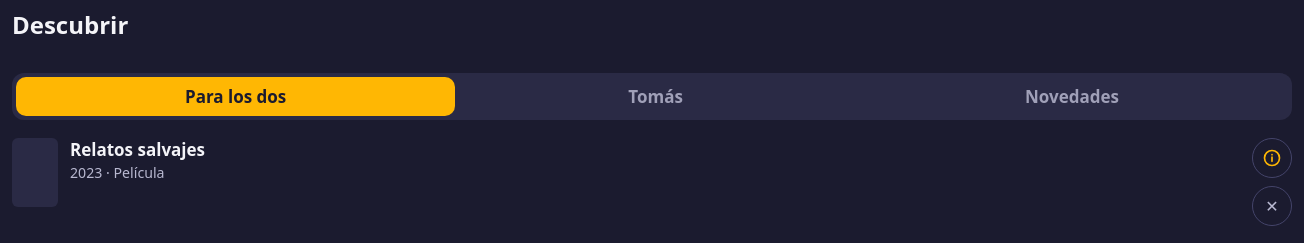
Test: a member whose results are empty shows the empty text in their section
Click the button "Tomás" at (656, 96), box x1=459 y1=77 x2=852 y2=116
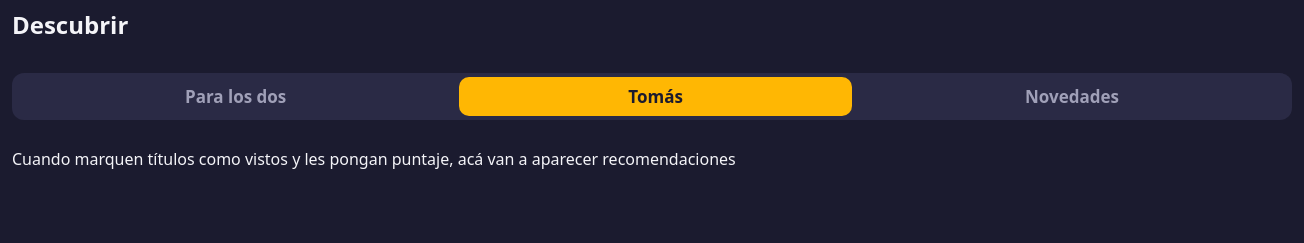
Check: the text "Cuando marquen títulos" is shown, box x1=12 y1=148 x2=736 y2=170
